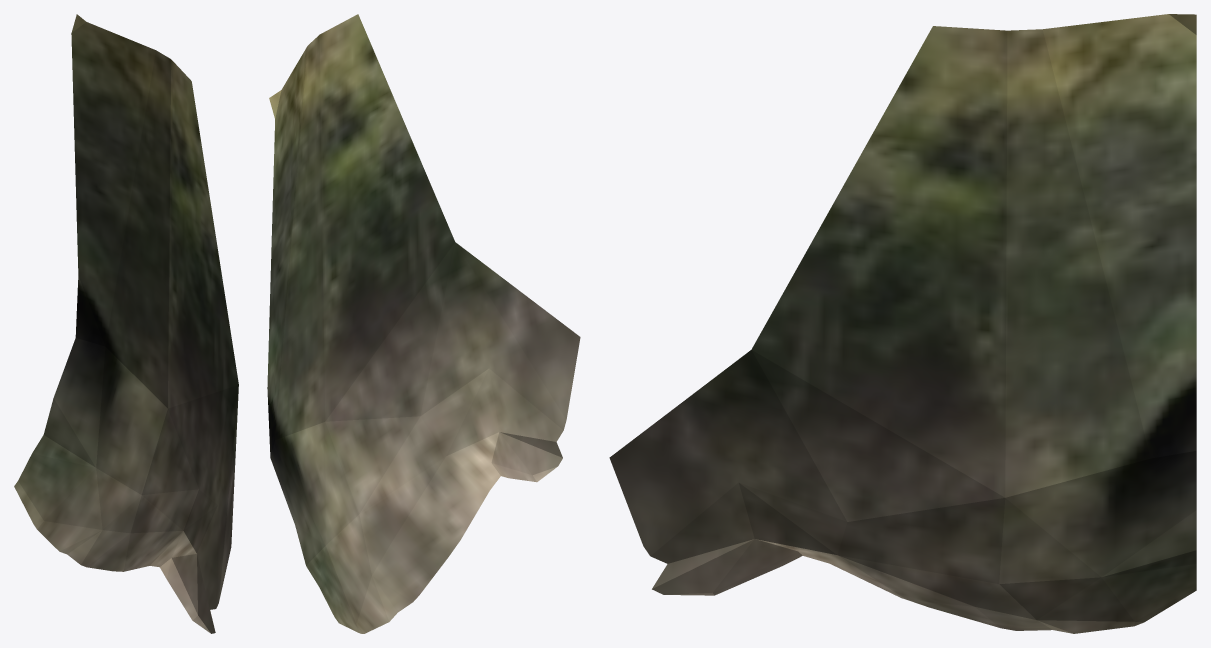
3 renders of one model, left to right at view 1: azimuth 30°, elevation 25°; view 2: azimuth 150°, elevation 25°; view 3: azimuth 270°, elevation 25°, orthographic. The views are drawn at different scales.
Bounding box in the file's own units: 3.66 × 19.6 × 15.78.
Materials: 1 (1 with a texture image).
